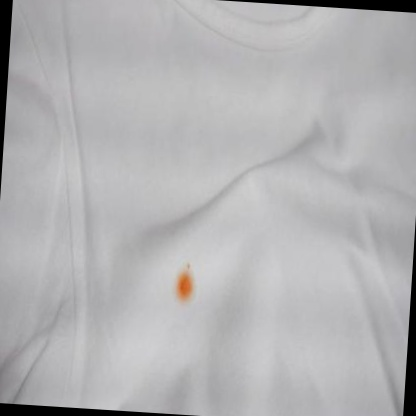kimchi: (173, 258, 202, 306)
